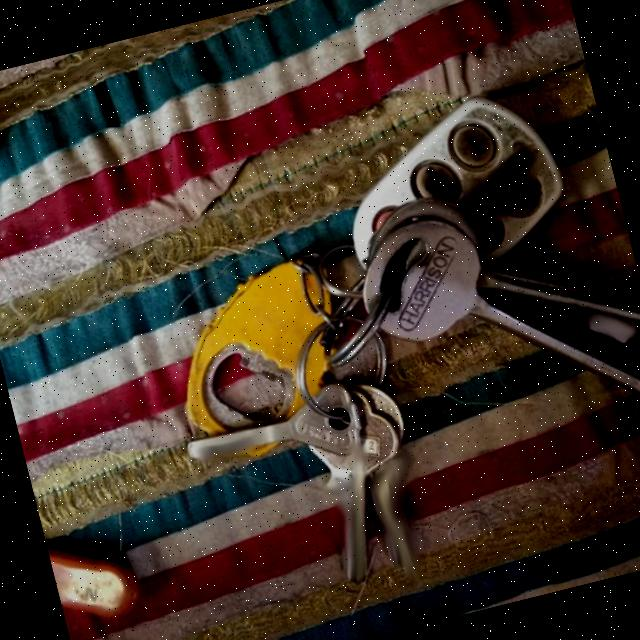Frontdoor keys: (340, 148, 640, 478), (178, 371, 444, 624)
